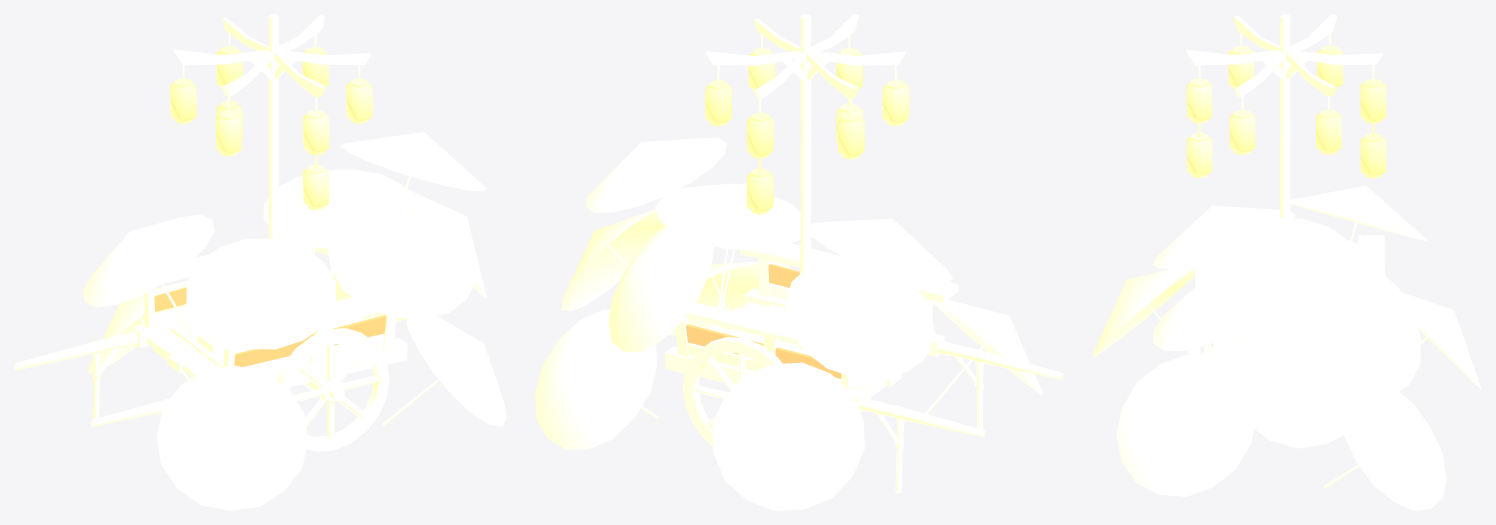
File: Homeworld_Exterior_Ly_Decoration_Varia_02_Lod0.fbx
3 views of the same model, side by side, from view 1: azimuth 30°, elevation 25°; view 2: azimuth 150°, elevation 25°; view 3: azimuth 270°, elevation 25° (orthographic).
Parts seen in each view (by area): view 1: Area_Ly_Prop_Common_Varia_C_05_Lod0; view 2: Area_Ly_Prop_Common_Varia_C_05_Lod0; view 3: Area_Ly_Prop_Common_Varia_C_05_Lod0.
Boxes of the visible parts, left/top/right/bottom form: Area_Ly_Prop_Common_Varia_C_05_Lod0: left=14, top=14, right=506, bottom=510; Area_Ly_Prop_Common_Varia_C_05_Lod0: left=535, top=14, right=1063, bottom=510; Area_Ly_Prop_Common_Varia_C_05_Lod0: left=1092, top=14, right=1481, bottom=510.
Bounding box in the file's own units: 3.74 × 3.41 × 2.93.
